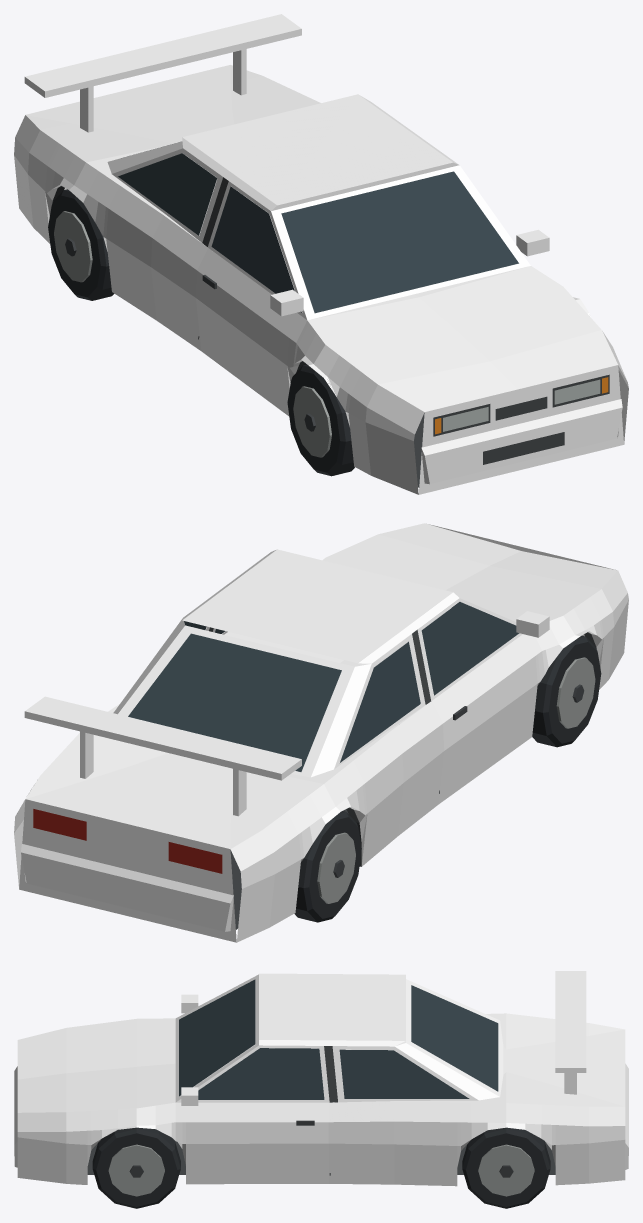
Rendered from calderwood_tarn_corrida.glb.
The picture shows the model from 3 angles, top to bottom: view 1: azimuth 30°, elevation 25°; view 2: azimuth 150°, elevation 25°; view 3: azimuth 270°, elevation 25°; orthographic projection. The views are drawn at different scales.
Visible parts, largest first — view 1: calderwood_tarn_corrida; view 2: calderwood_tarn_corrida; view 3: calderwood_tarn_corrida.
Boxes of the visible parts, x1,y1,x2,y2 form: calderwood_tarn_corrida: (14,14,628,494); calderwood_tarn_corrida: (14,523,628,942); calderwood_tarn_corrida: (14,971,628,1208).
Size of the model in its own units: 1.71 by 1.2 by 4.34.
8 materials, 1 textured.
